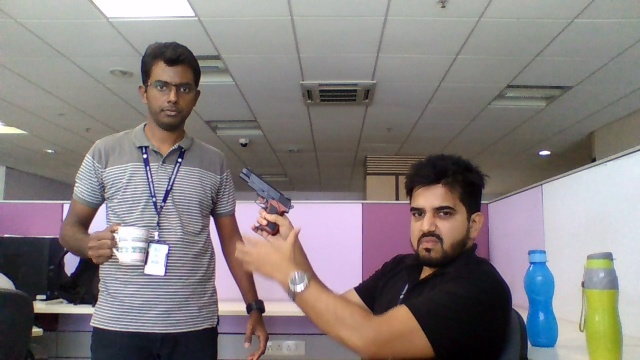gun: (240, 166, 294, 213)
